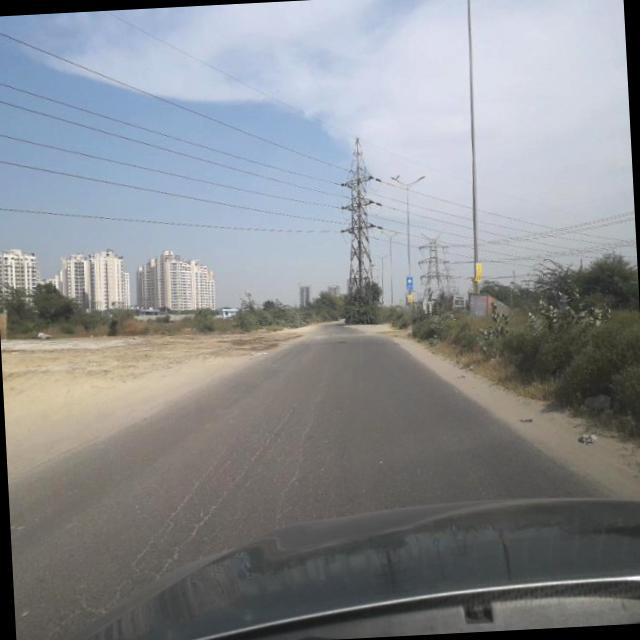crack: (91, 403, 342, 588), (134, 386, 313, 588), (88, 432, 247, 610), (268, 372, 326, 531)
